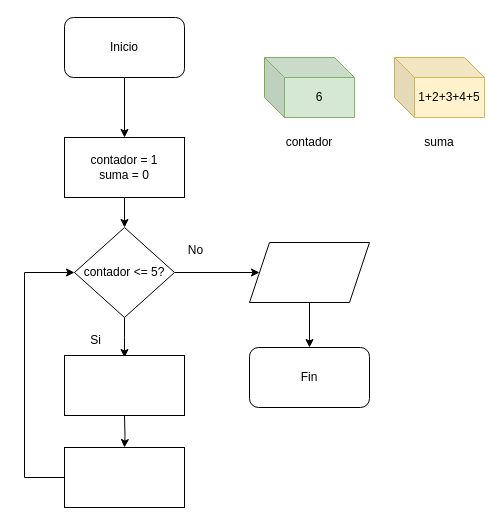
Some shapes in this 502 by 525 pixel diagram are drawn without their labels. Here are the shapes that lost their labels. From the top down, the centre of each, then its label:
At [309,272]: "Mostrar suma".
At [124,385]: "suma = suma + contador".
At [124,477]: "contador = contador + 1".
